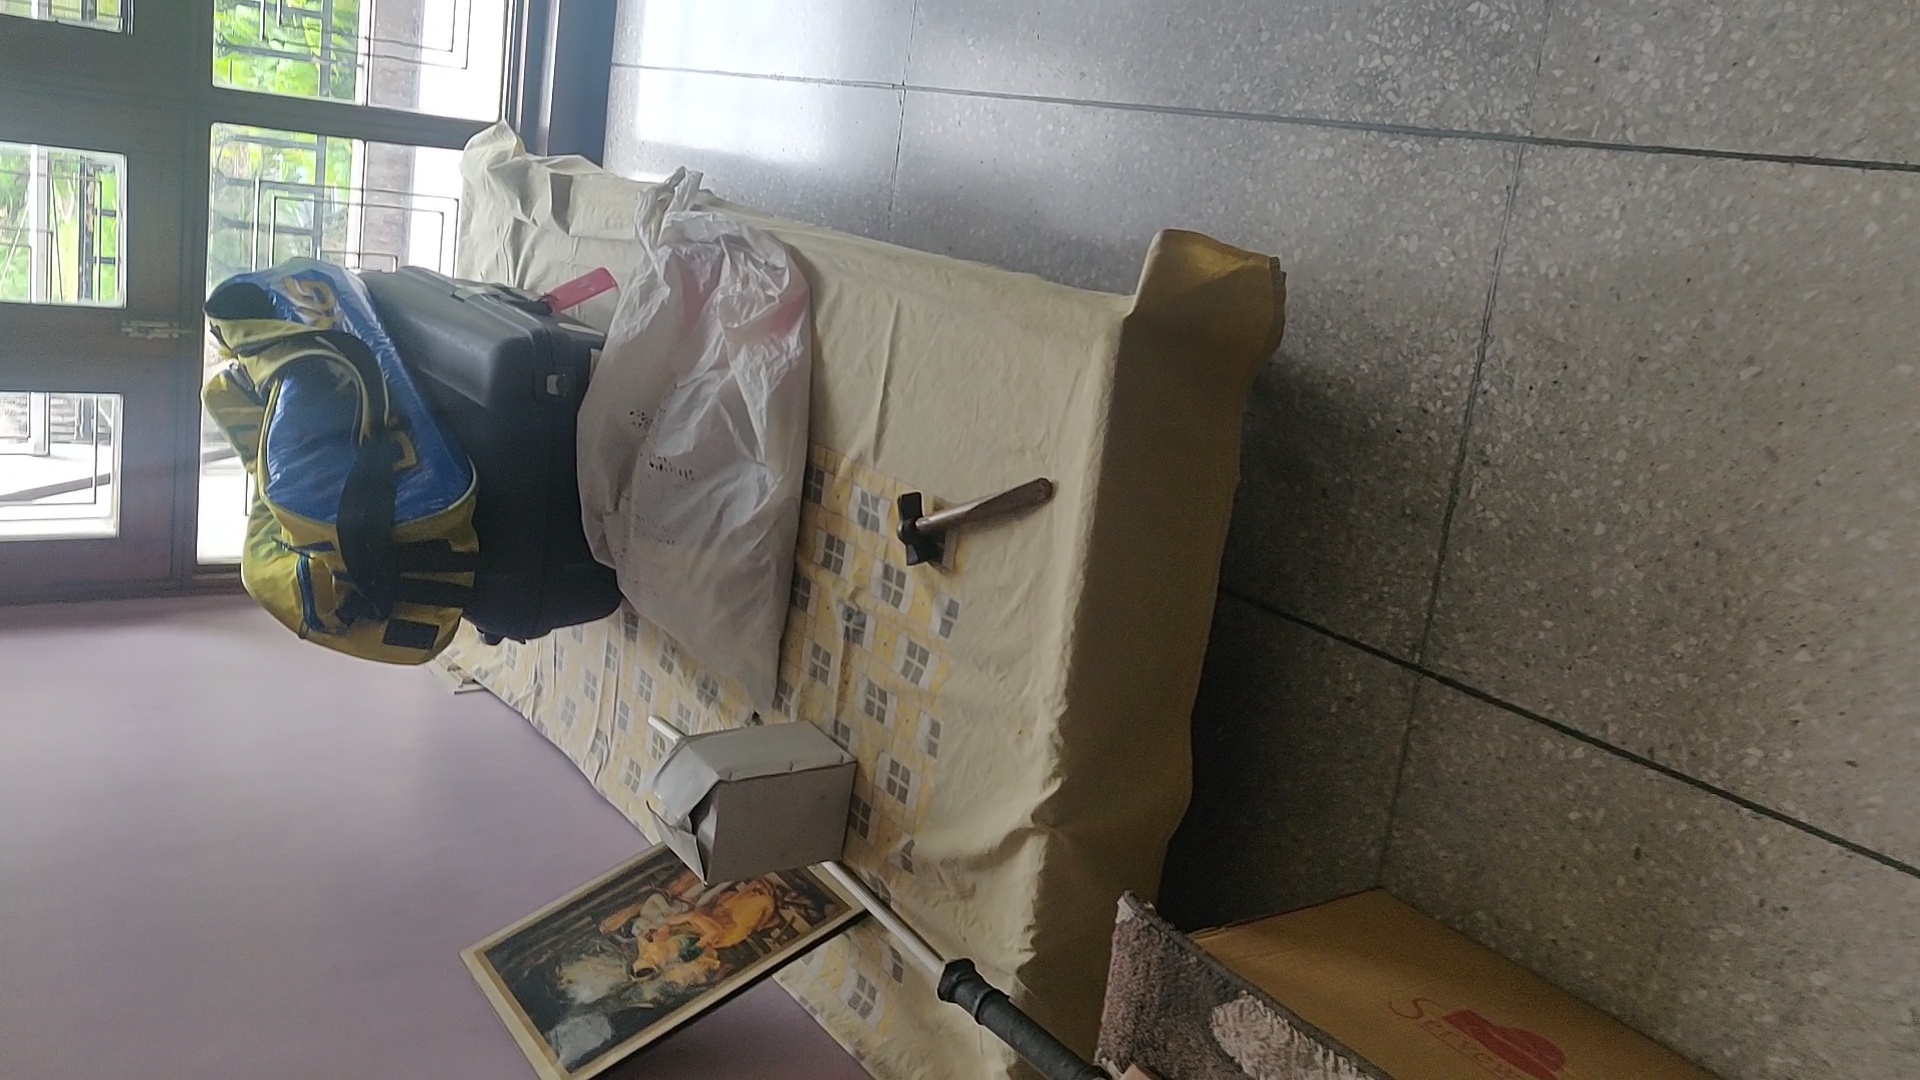hammer: (891, 477, 1056, 578)
